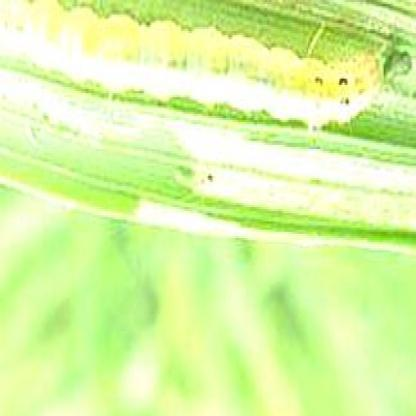leaf-folder: (30, 0, 392, 155)
